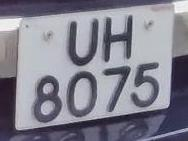0: (61, 64, 103, 122)
5: (129, 56, 162, 113)
7: (102, 60, 133, 118)
8: (31, 72, 65, 125)
H: (99, 7, 140, 69)
U: (61, 11, 106, 72)
